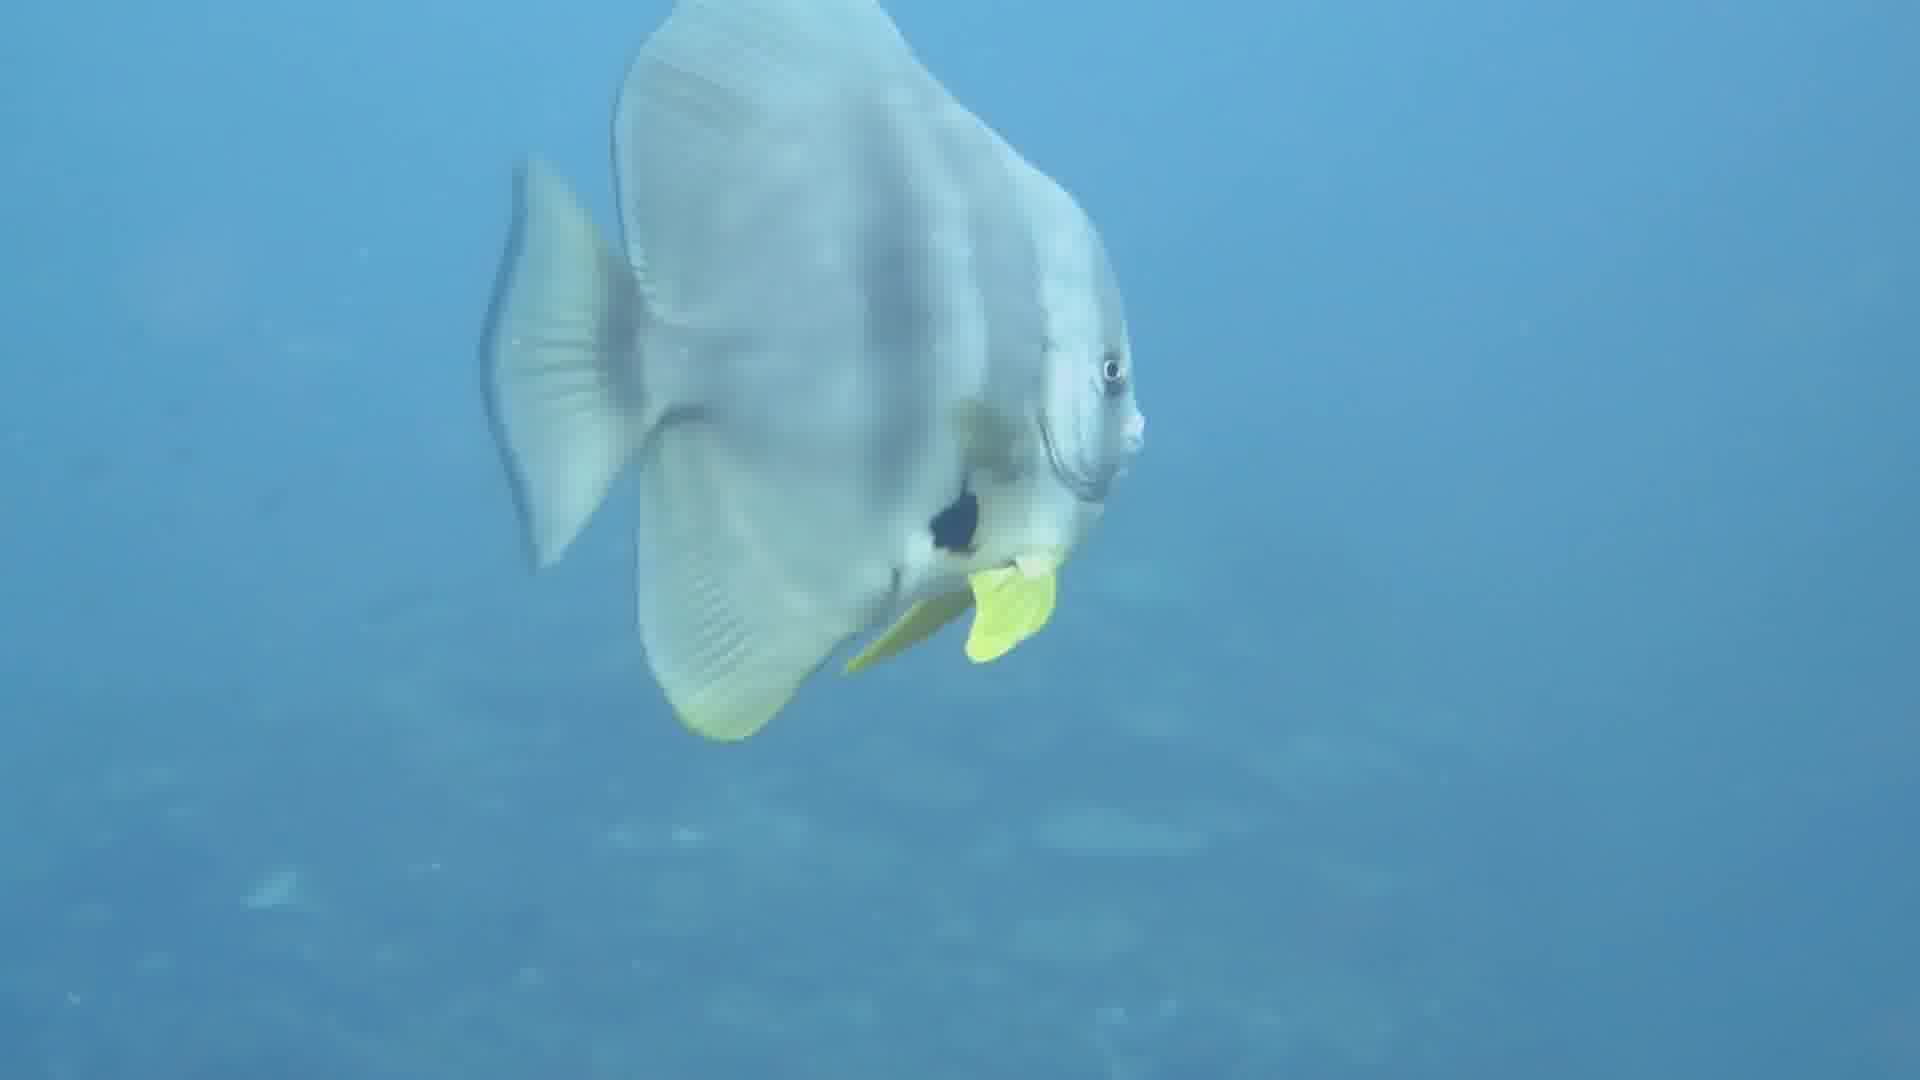Platax teira: (373, 1, 1244, 889)
